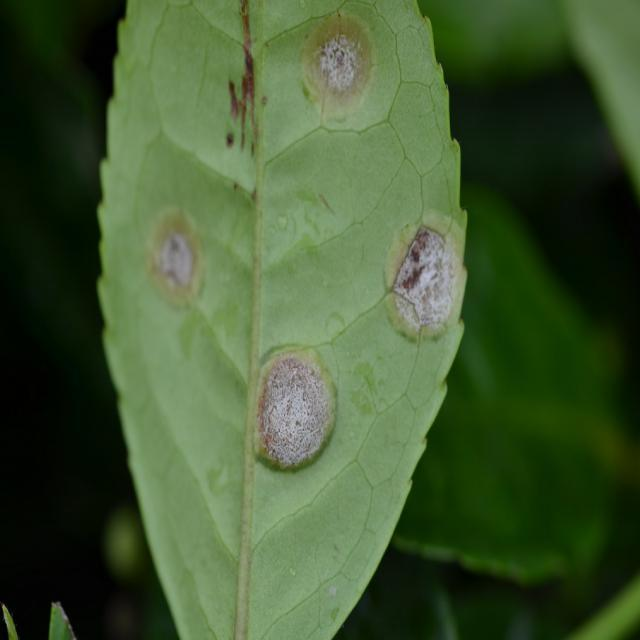Tea cake: (300, 12, 379, 118), (392, 212, 458, 327), (263, 360, 337, 454), (144, 209, 204, 286)
